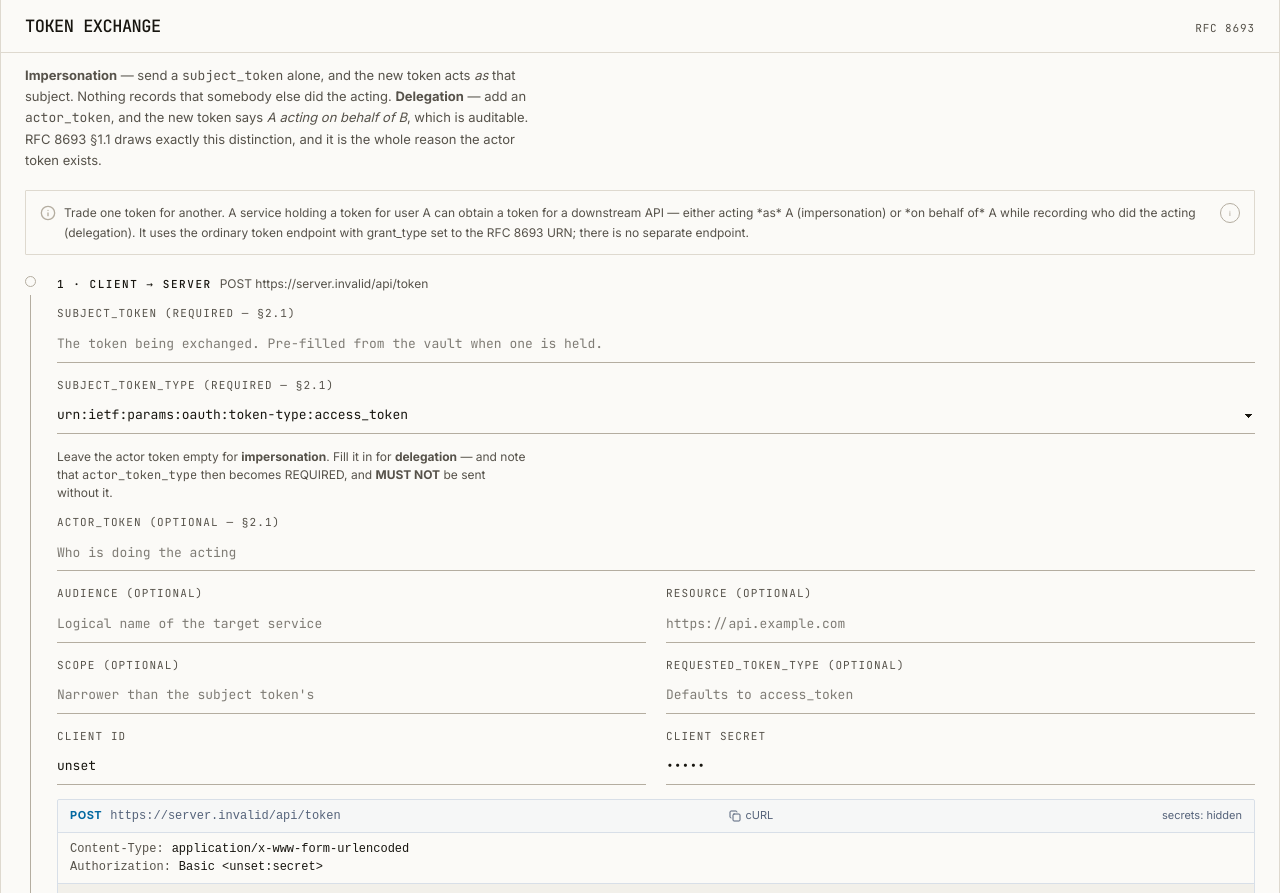
Test: the deliberate defects are reported as deliberate › names the missing issued_token_type and the exercise that owns it
The image size is (1280, 893).
Replace the text in the field labelled "subject_token (REQUIRED — §2.1)" with "subject-at": [656, 345] box x1=57 y1=327 x2=1255 y2=363
(page scrolled)
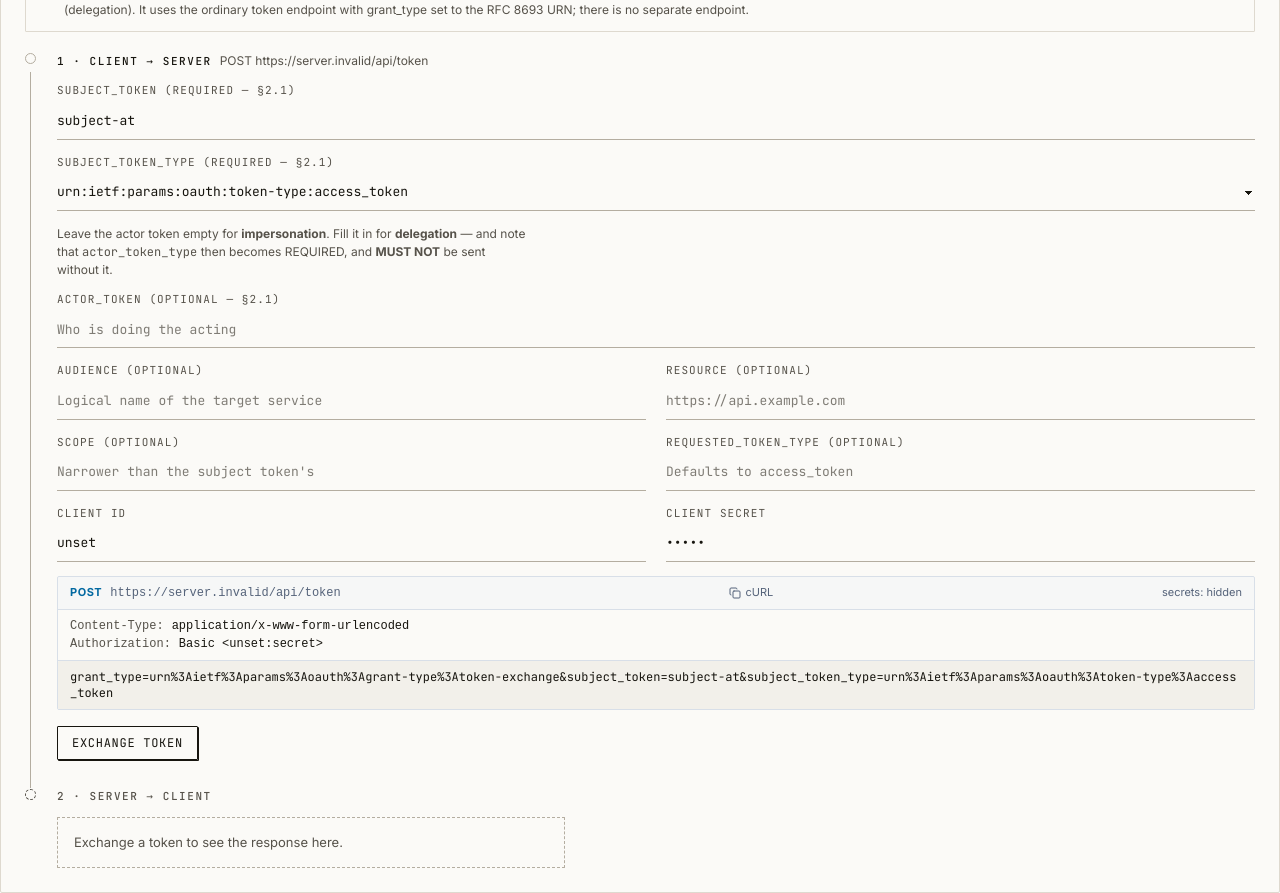
Click the button "Exchange token": [127, 743] box x1=57 y1=726 x2=198 y2=760
(page scrolled)
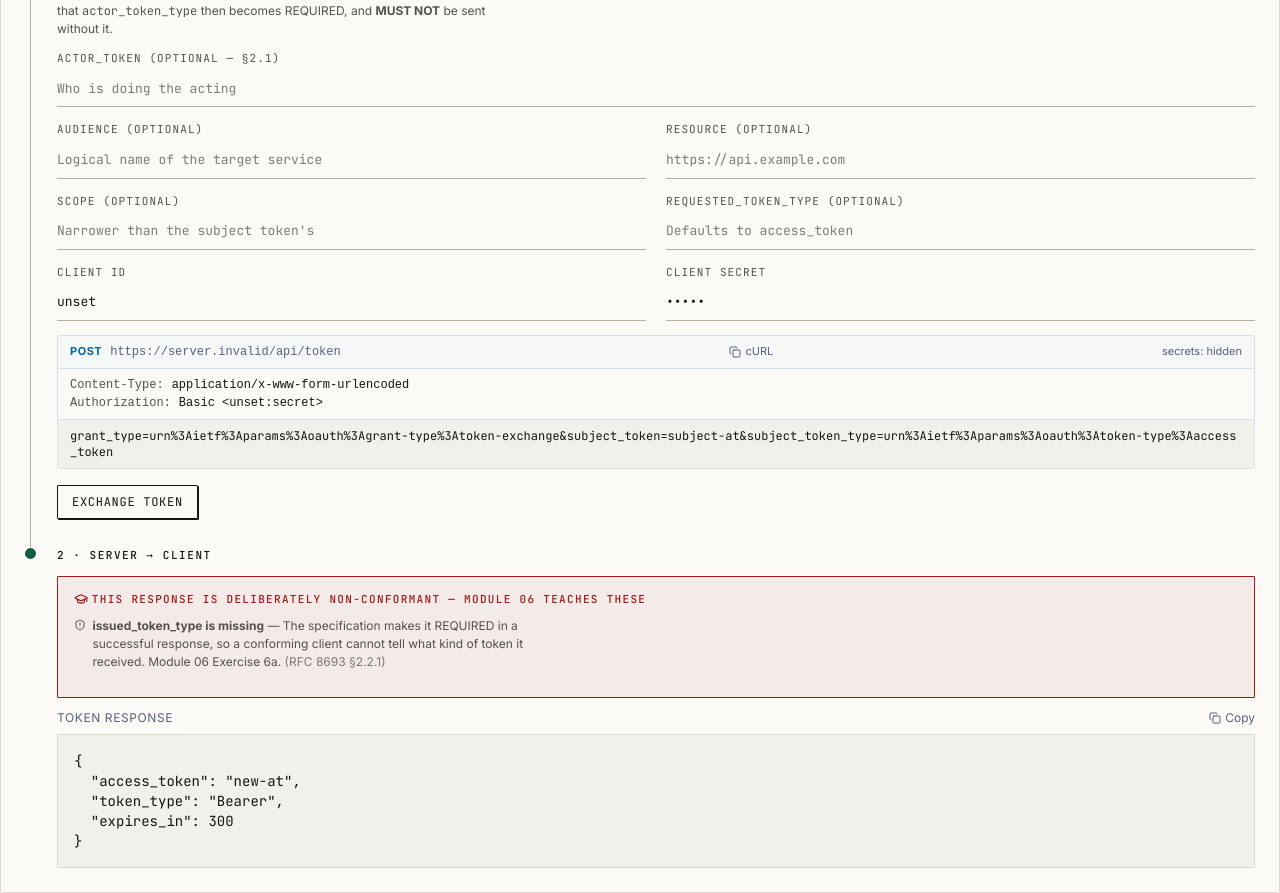
Now the text "deliberately non-conformant" is shown, box x1=92 y1=592 x2=646 y2=606
Now the text "issued_token_type is missing" is shown, box x1=92 y1=618 x2=264 y2=633
Now the text "Exercise 6a" is shown, box x1=92 y1=618 x2=523 y2=669
